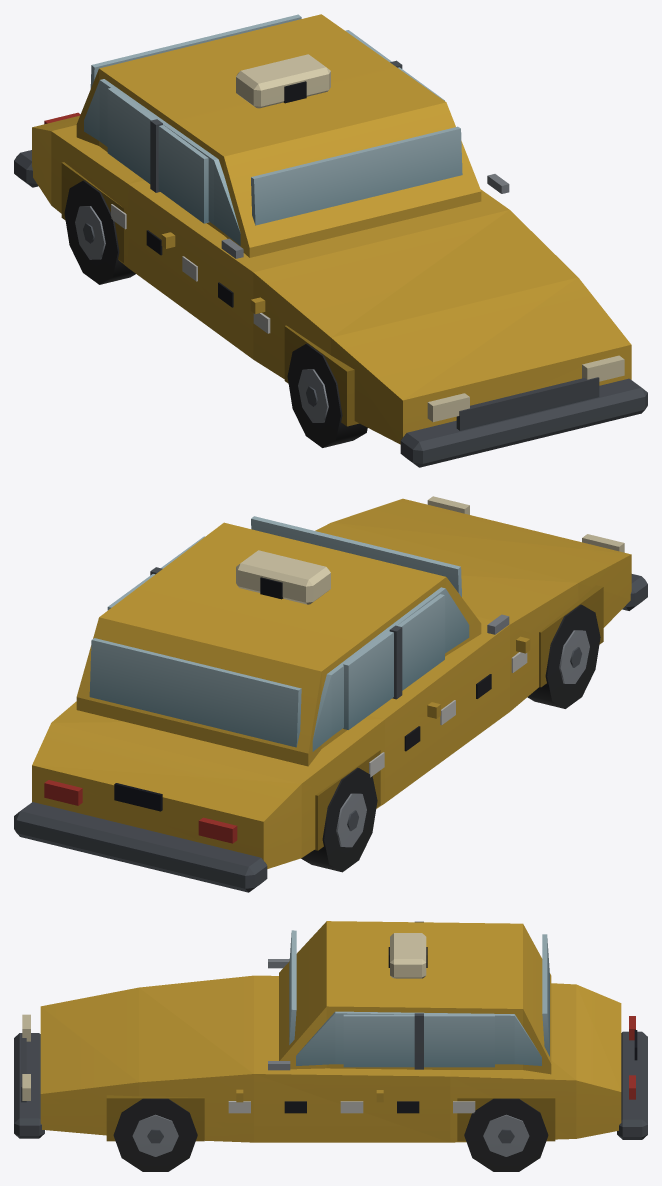
File: taxi-01.glb
3 renders of one model, top to bottom at view 1: azimuth 30°, elevation 25°; view 2: azimuth 150°, elevation 25°; view 3: azimuth 270°, elevation 25°, orthographic. The views are drawn at different scales.
Parts seen in each view (by area): view 1: taxi_01; view 2: taxi_01; view 3: taxi_01.
Boxes of the visible parts, left/top/right/bottom form: taxi_01: left=14, top=14, right=647, bottom=467; taxi_01: left=14, top=496, right=647, bottom=892; taxi_01: left=14, top=921, right=647, bottom=1171.
Size of the model in its own units: 1.16 by 0.9004 by 2.94.
